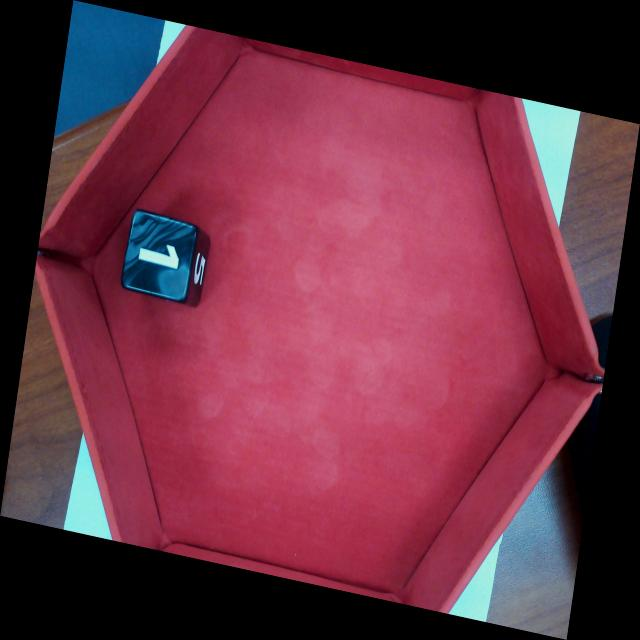dice: (118, 206, 199, 306)
